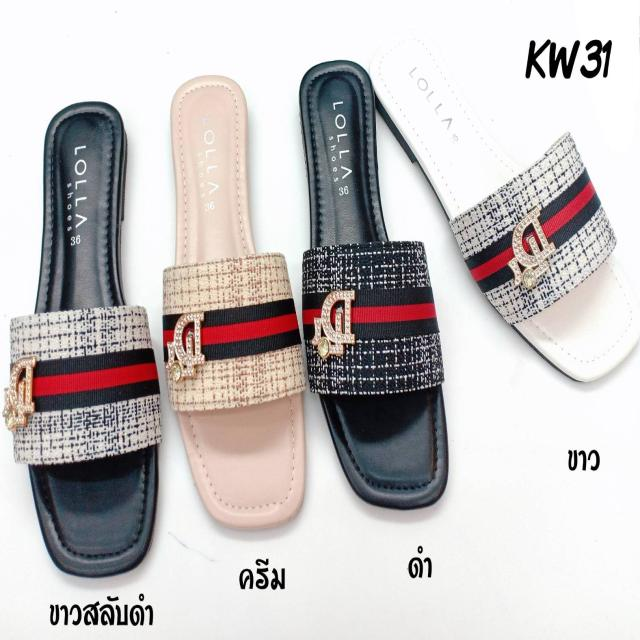black: (301, 67, 454, 510)
cream: (172, 76, 311, 528)
white: (373, 39, 640, 382)
white-black: (22, 102, 160, 574)
